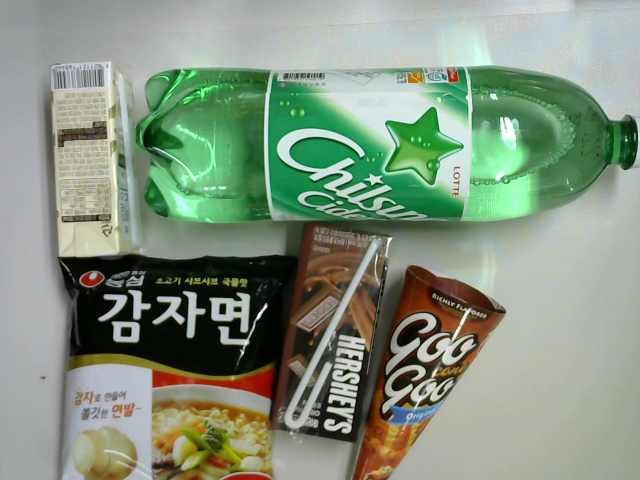99.89_Soymilk: (44, 52, 144, 266)
Chilseong_Cider_1.5L: (135, 51, 640, 233)
GooGoo_Cone_CVS: (347, 255, 508, 480)
Hush_Choco_Drink: (260, 214, 392, 446)
Potato: (47, 245, 308, 480)
